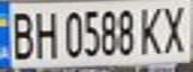0: (60, 7, 84, 58)
5: (78, 7, 103, 58)
8: (115, 4, 139, 56), (100, 7, 121, 57)
B: (3, 7, 39, 61)
H: (30, 7, 60, 60)
K: (136, 2, 166, 55)
X: (157, 1, 193, 54)
